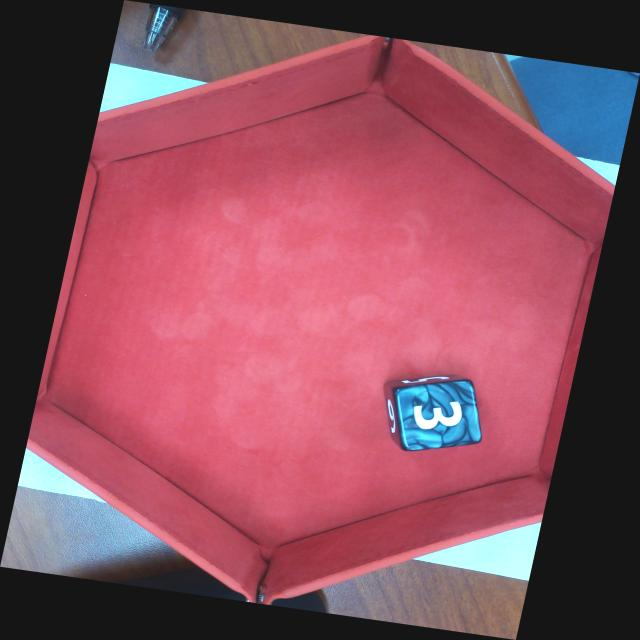dice: (393, 380, 482, 448)
